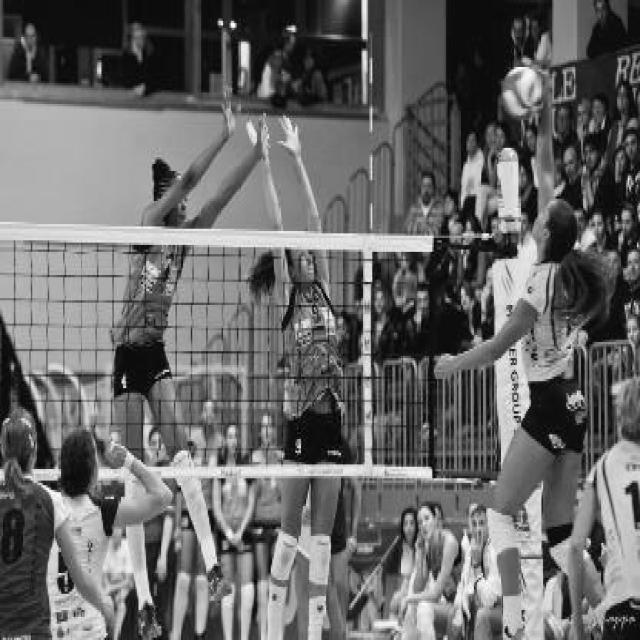volleyball: (500, 68, 544, 121)
